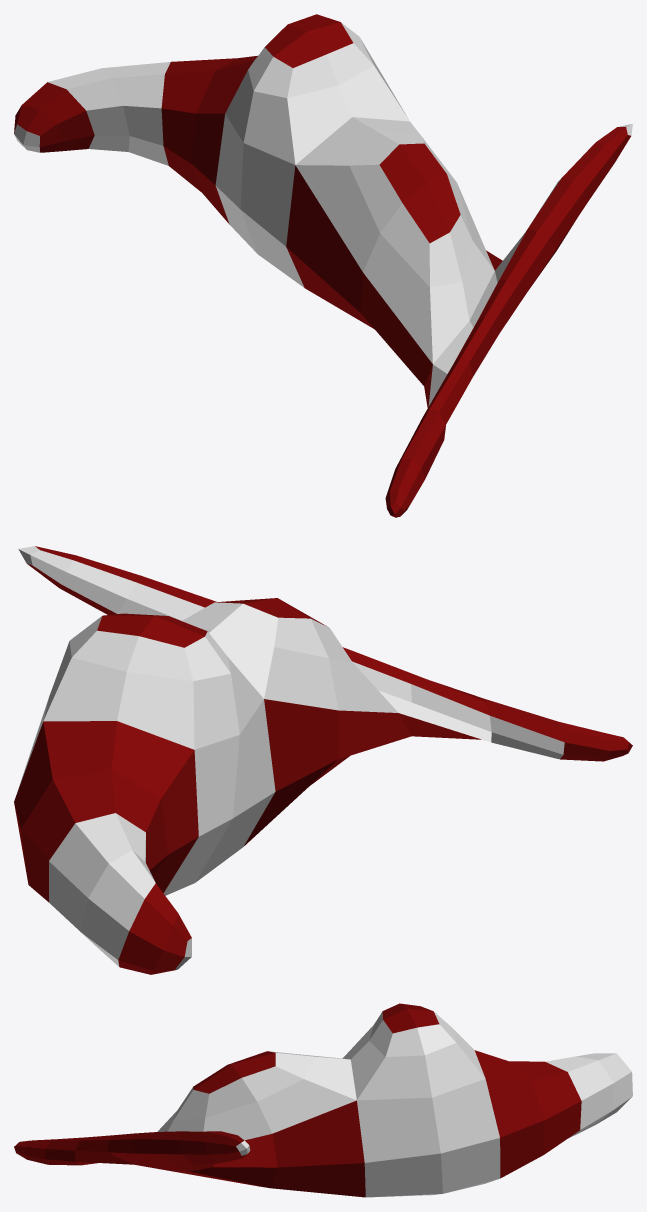
The model's file is camelgland.fbx.
3 views of the same model, one above another, from view 1: azimuth 30°, elevation 25°; view 2: azimuth 150°, elevation 25°; view 3: azimuth 270°, elevation 25° (orthographic). The views are drawn at different scales.
Parts seen in each view (by area): view 1: Cube; view 2: Cube; view 3: Cube.
Boxes of the visible parts, bbox=[...] form: Cube: bbox=[14, 14, 632, 517]; Cube: bbox=[14, 546, 632, 974]; Cube: bbox=[14, 1003, 632, 1197].
Bounding box in the file's own units: 457 × 300 × 809.
